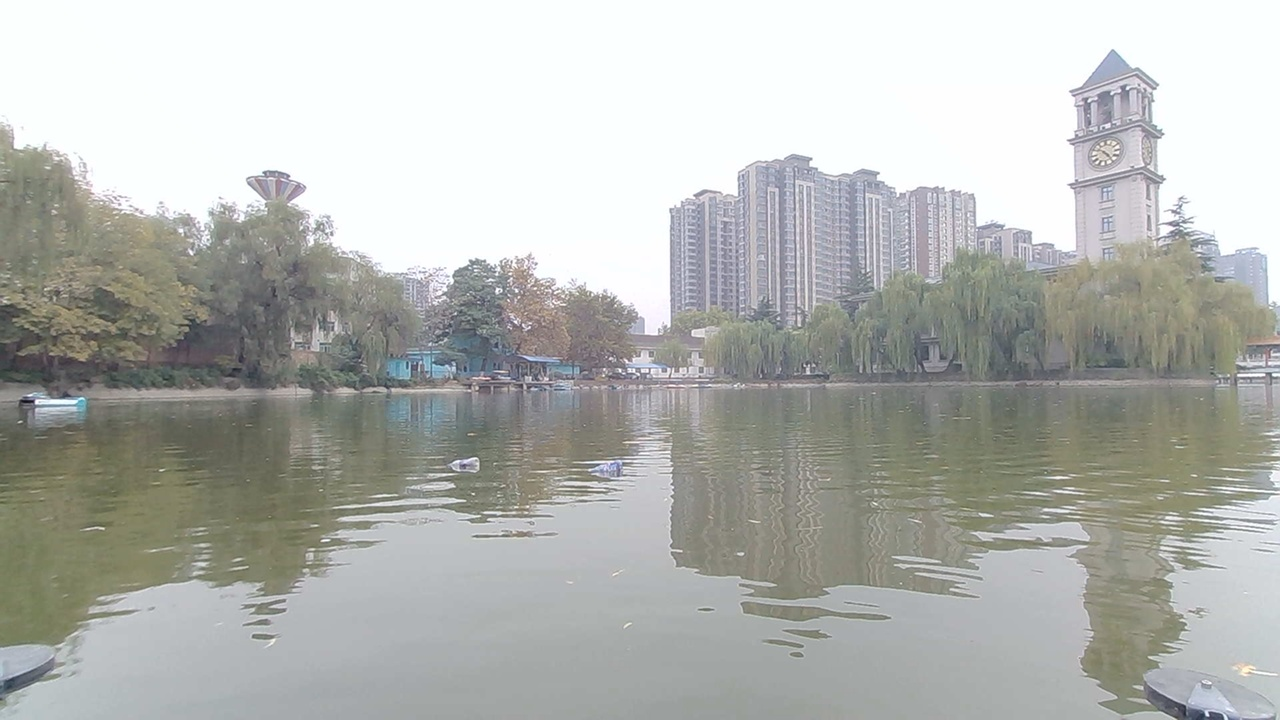bottle: (442, 448, 481, 474), (594, 462, 627, 479)
